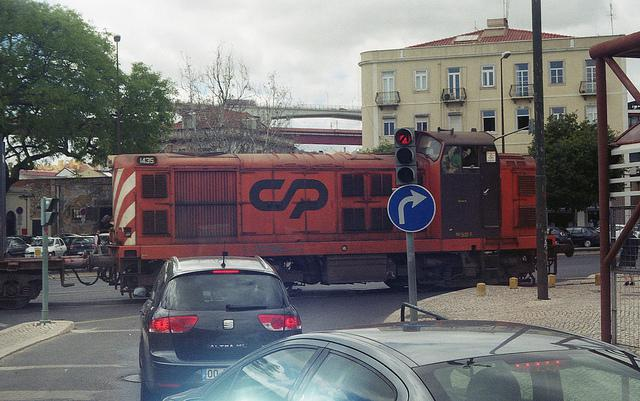Train: (1, 126, 558, 313)
